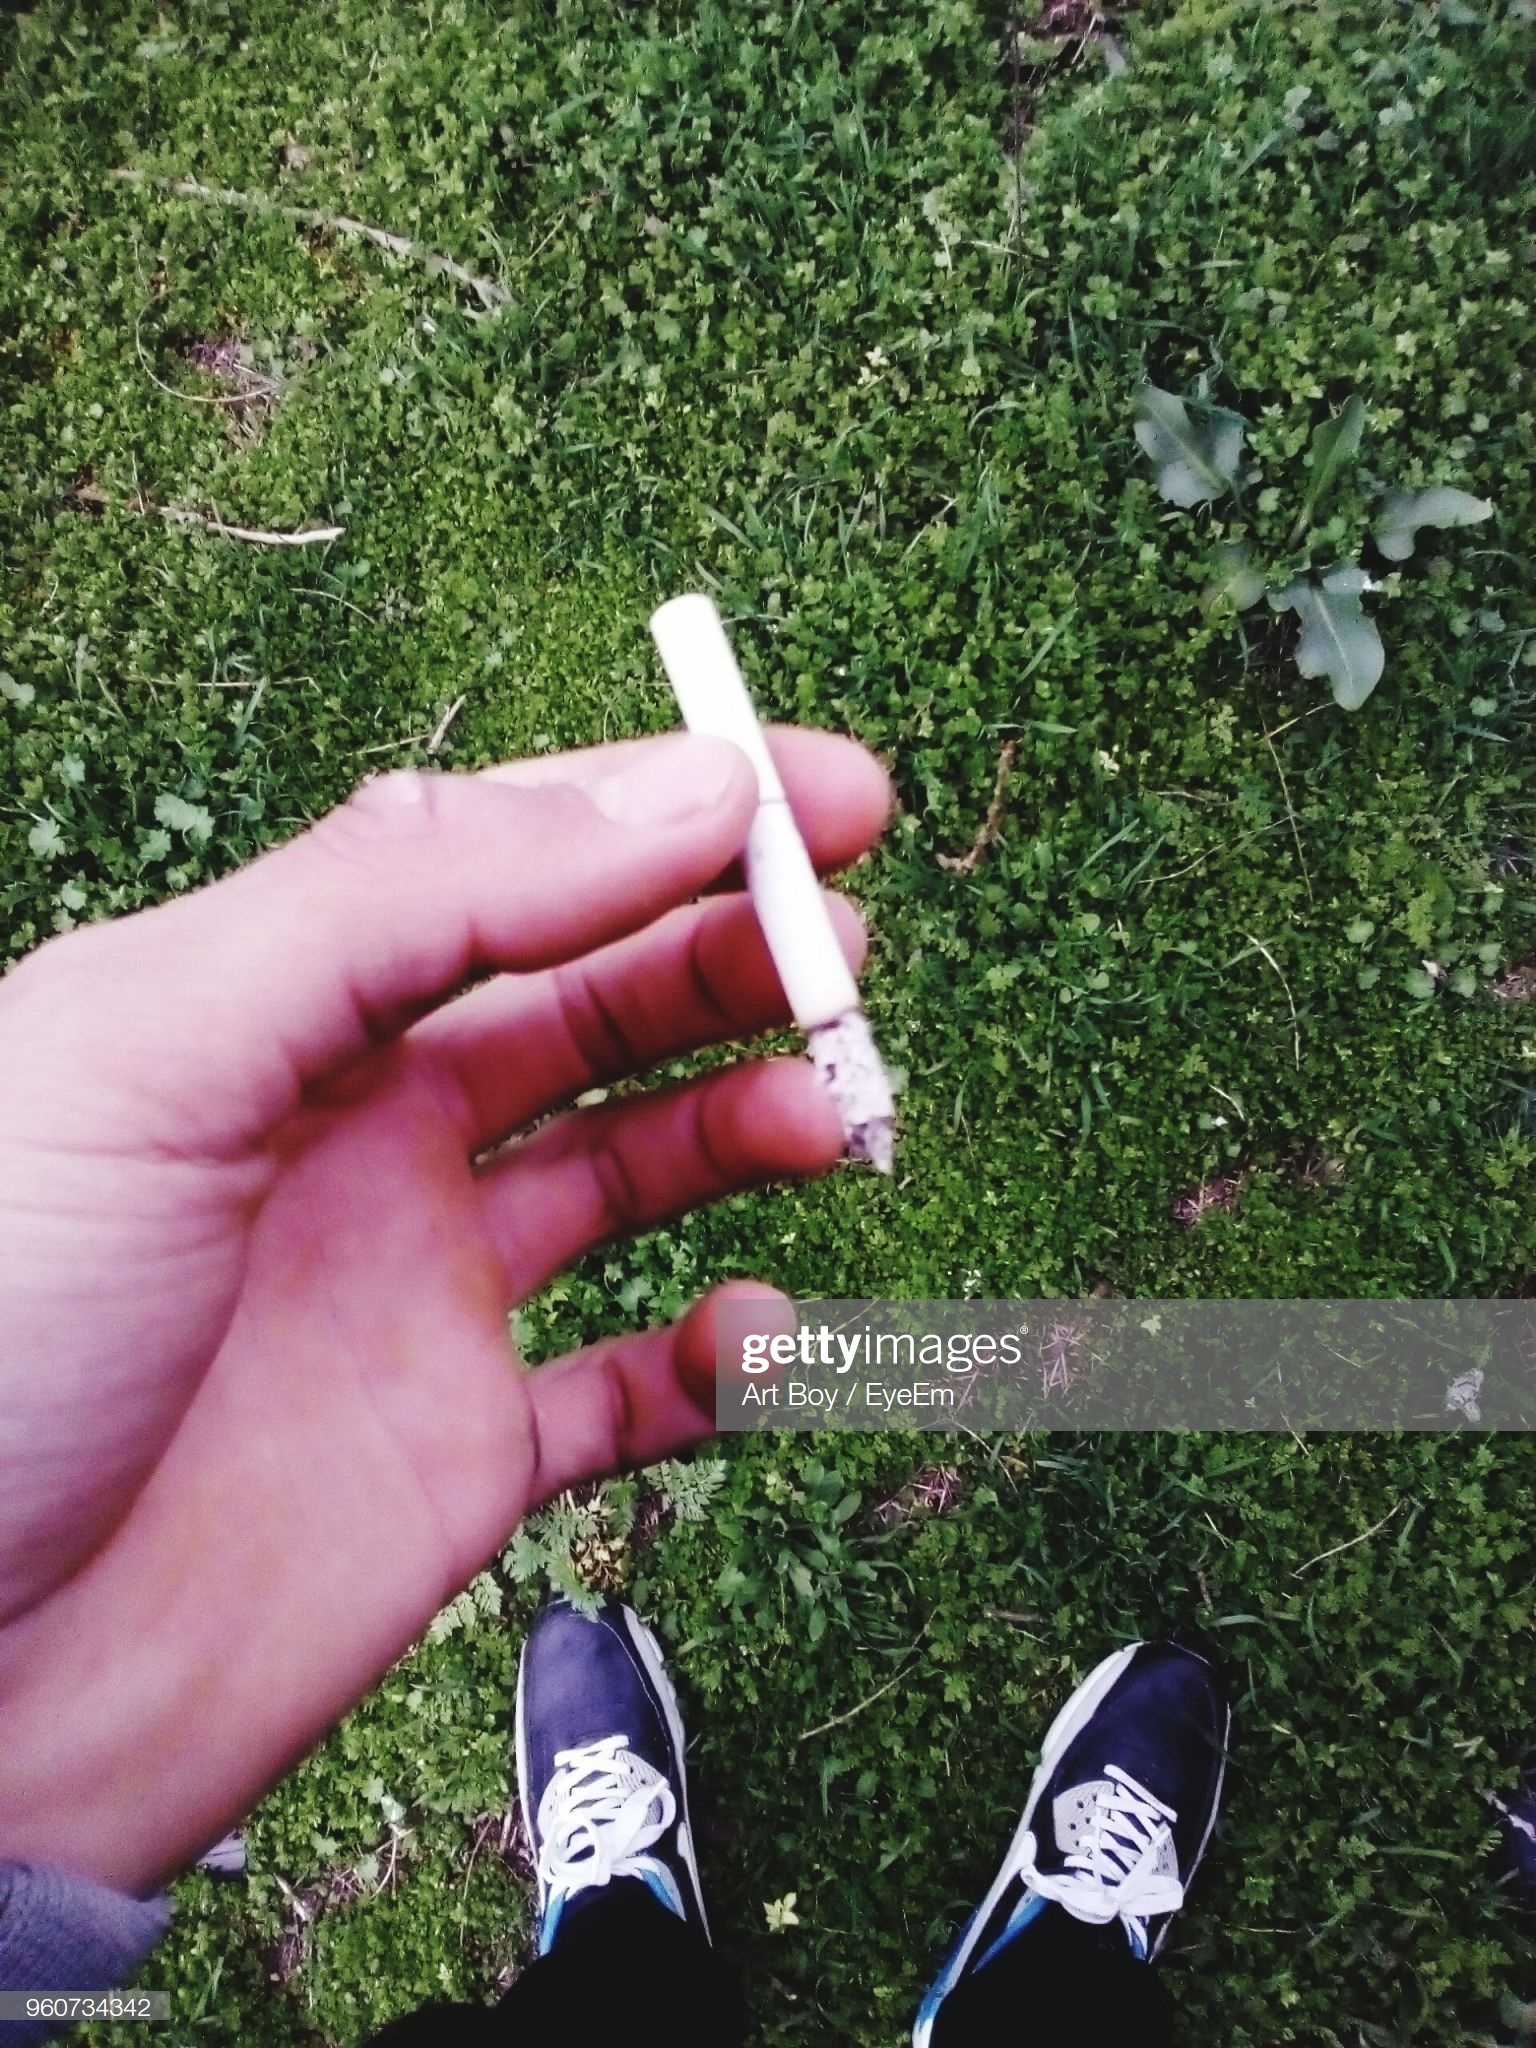sigaretta: (632, 595, 910, 1188)
